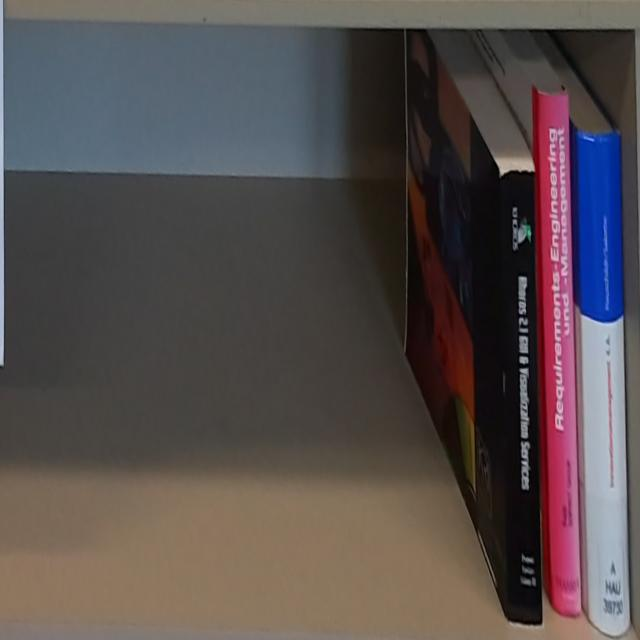Book Spine: (579, 133, 631, 637), (538, 93, 582, 619), (501, 172, 543, 629)
